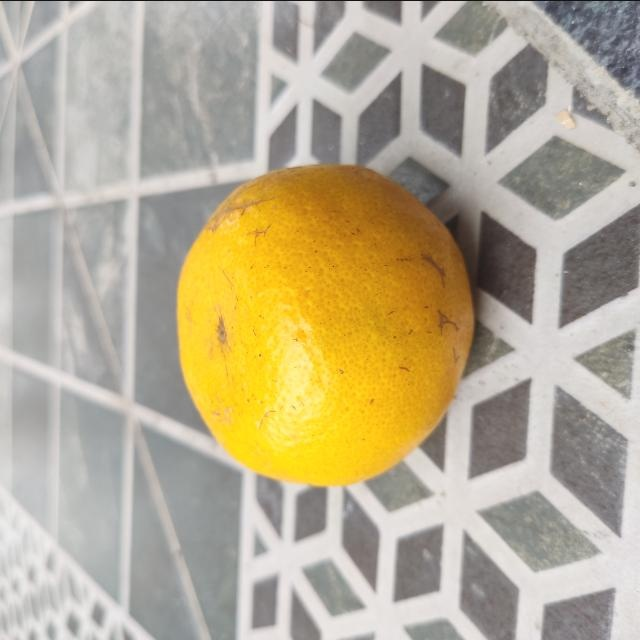agrume: (172, 156, 480, 488)
